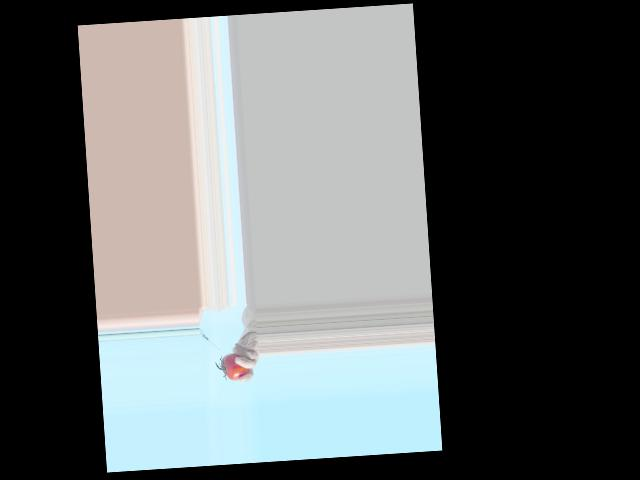tomato: (221, 352, 249, 381)
